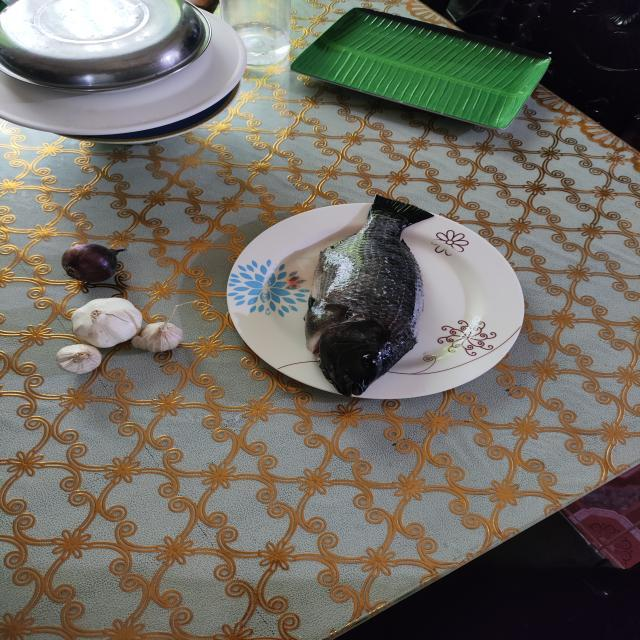fish: (310, 197, 433, 399)
garlic: (59, 296, 184, 378)
onion: (61, 239, 123, 284)
